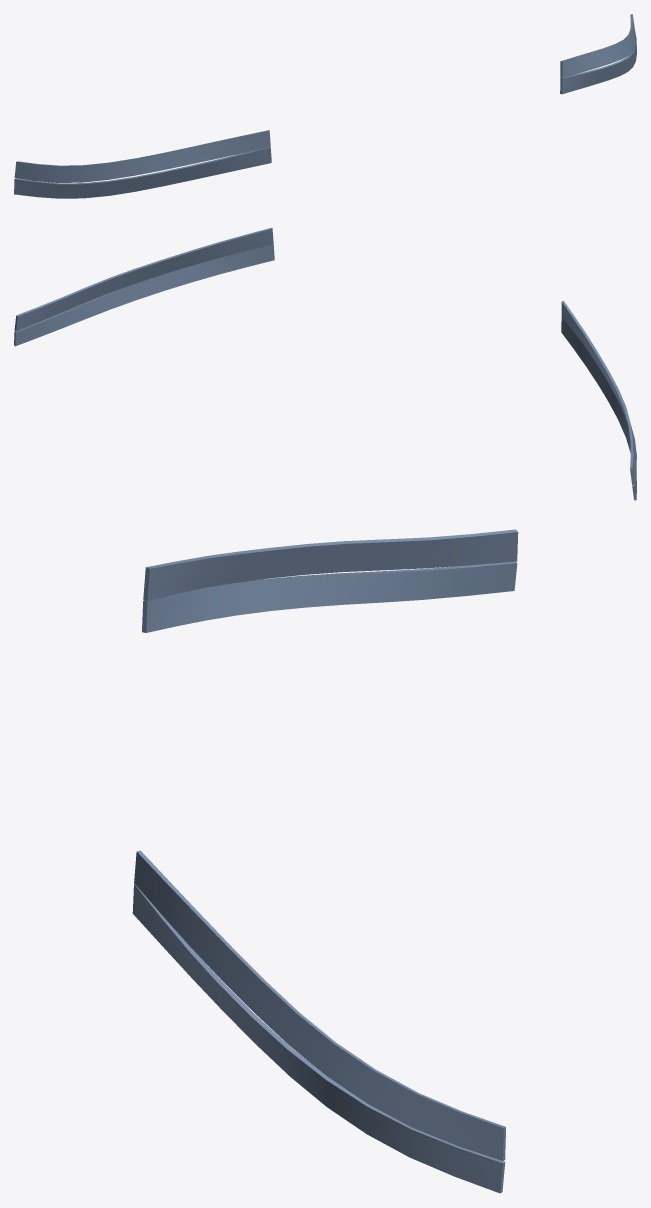
Rendered from SM_CarlosSA_Jacket_WaistPockets_SlantedJetted.fbx.
3 renders of one model, top to bottom at view 1: azimuth 30°, elevation 25°; view 2: azimuth 150°, elevation 25°; view 3: azimuth 270°, elevation 25°, orthographic. The views are drawn at different scales.
Parts seen in each view (by area): view 1: SM_CarlosSA_Jacket_WaistPockets_SlantedJetted; view 2: SM_CarlosSA_Jacket_WaistPockets_SlantedJetted; view 3: SM_CarlosSA_Jacket_WaistPockets_SlantedJetted.
Boxes of the visible parts, left/top/right/bottom form: SM_CarlosSA_Jacket_WaistPockets_SlantedJetted: left=14, top=14, right=636, bottom=198; SM_CarlosSA_Jacket_WaistPockets_SlantedJetted: left=14, top=227, right=636, bottom=500; SM_CarlosSA_Jacket_WaistPockets_SlantedJetted: left=132, top=529, right=518, bottom=1193.
Size of the model in its own units: 0.3427 by 0.048 by 0.0923.
